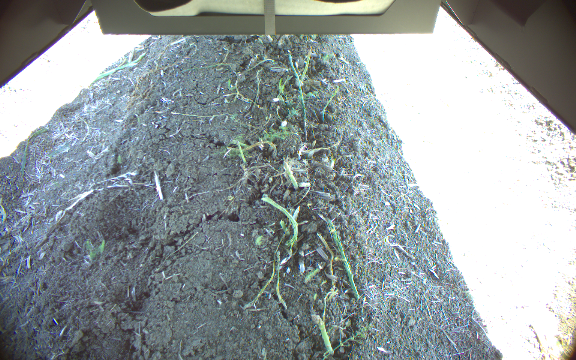aspa: (325, 219, 360, 299), (310, 313, 336, 355), (280, 157, 297, 190), (299, 44, 312, 82), (233, 140, 247, 165)
